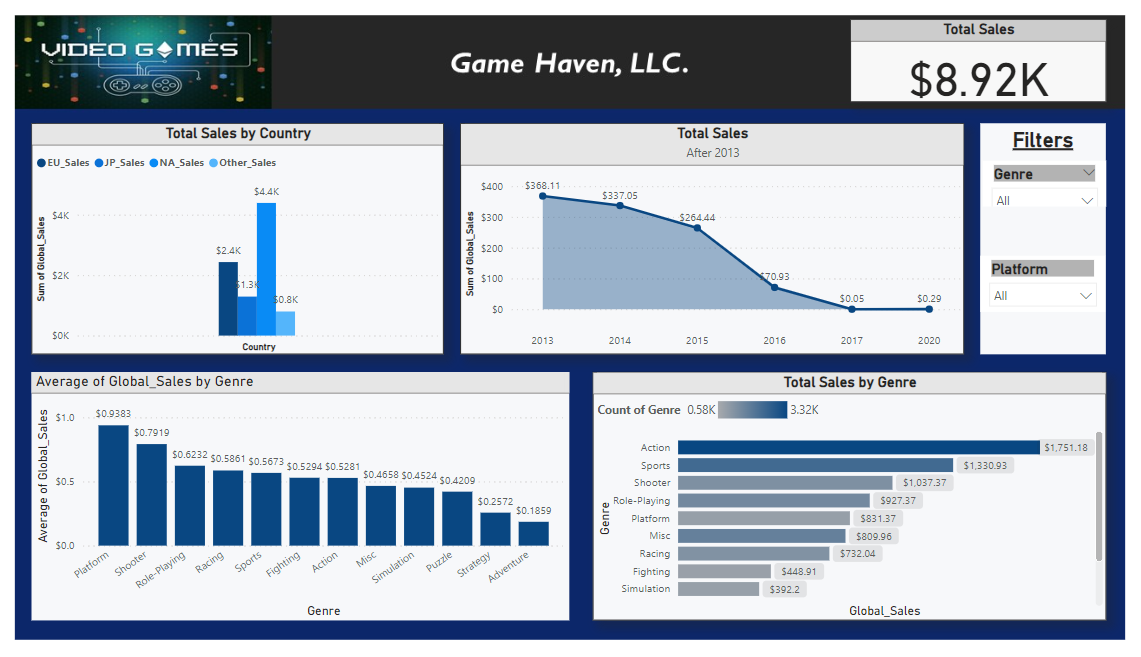

What the dashboard file says about the page in this screenshot:
{"tool":"powerbi","page":{"name":"Page 1","canvas":[1500,860],"ordinal":0},"visuals":[{"type":"barChart","title":"Total Sales by Genre","fields":{"Category":["Video Game sales.Genre"],"Y":["Sum(Video Game sales.Global_Sales)"]},"box":[776.7,478.4,592.3,286.8],"z":0},{"type":"stackedAreaChart","title":"Total Sales ","fields":{"Category":["Video Game sales.Year"],"Y":["Sum(Video Game sales.Global_Sales)"]},"box":[624,191.7,580.7,266.6],"z":1000},{"type":"clusteredColumnChart","title":"Total Sales by Country","fields":{"Y":["Sum(Video Game sales.EU_Sales)","Sum(Video Game sales.JP_Sales)","Sum(Video Game sales.NA_Sales)","Sum(Video Game sales.Other_Sales)"]},"box":[129.7,191.7,475.5,266.6],"z":2000},{"type":"card","title":"Total Sales","fields":{"Values":["Sum(Video Game sales.Global_Sales)"]},"box":[1073.6,72.1,295.4,95.1],"z":4000},{"type":"clusteredColumnChart","fields":{"Category":["Video Game sales.Genre"],"Y":["Avg(Video Game sales.Global_Sales)"]},"box":[129.7,478.4,619.6,286.8],"z":5000},{"type":"textbox","title":"New Slicer Box","box":[1223.4,191.7,144.6,266.6],"z":6593,"group":"g1"},{"type":"slicer","title":"Slicer- Platform","fields":{"Values":["Video Game sales.Platform"]},"box":[1222.8,344.9,144.1,64.8],"z":7093,"group":"g1"},{"type":"slicer","title":"Slicer- Genre","fields":{"Values":["Video Game sales.Genre"]},"box":[1226.4,235.5,142.6,52.6],"z":7250,"group":"g1"},{"type":"group","id":"g1","title":"Group 1","box":[1222.8,191.7,146.2,266.6],"z":7501}]}

Visuals, with their boxes in screenshot pixels (x1, y1, x2, y2), scaled from the page's 1500x860 canvas onto the 1141x657 screenshot:
"Total Sales by Genre" barChart: <bbox>591, 365, 1041, 585</bbox>
"Total Sales " stackedAreaChart: <bbox>475, 146, 916, 350</bbox>
"Total Sales by Country" clusteredColumnChart: <bbox>99, 146, 460, 350</bbox>
"Total Sales" card: <bbox>817, 55, 1041, 128</bbox>
clusteredColumnChart - Video Game sales.Genre x Avg(Video Game sales.Global_Sales): <bbox>99, 365, 570, 585</bbox>
"New Slicer Box" textbox: <bbox>931, 146, 1041, 350</bbox>
"Slicer- Platform" slicer: <bbox>930, 263, 1040, 313</bbox>
"Slicer- Genre" slicer: <bbox>933, 180, 1041, 220</bbox>
"Group 1" group: <bbox>930, 146, 1041, 350</bbox>
